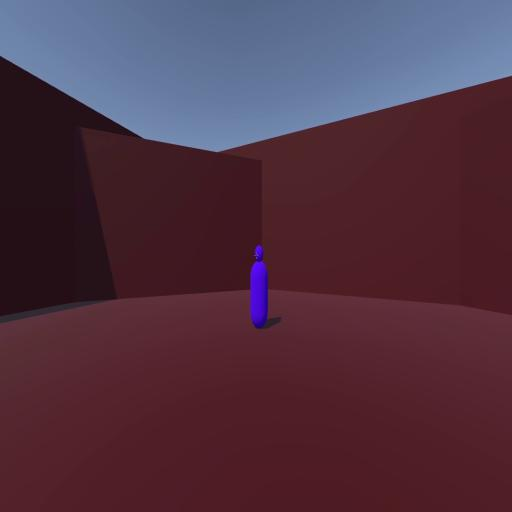Crosshair: (254, 252, 259, 260)
Target: (250, 244, 268, 330)
